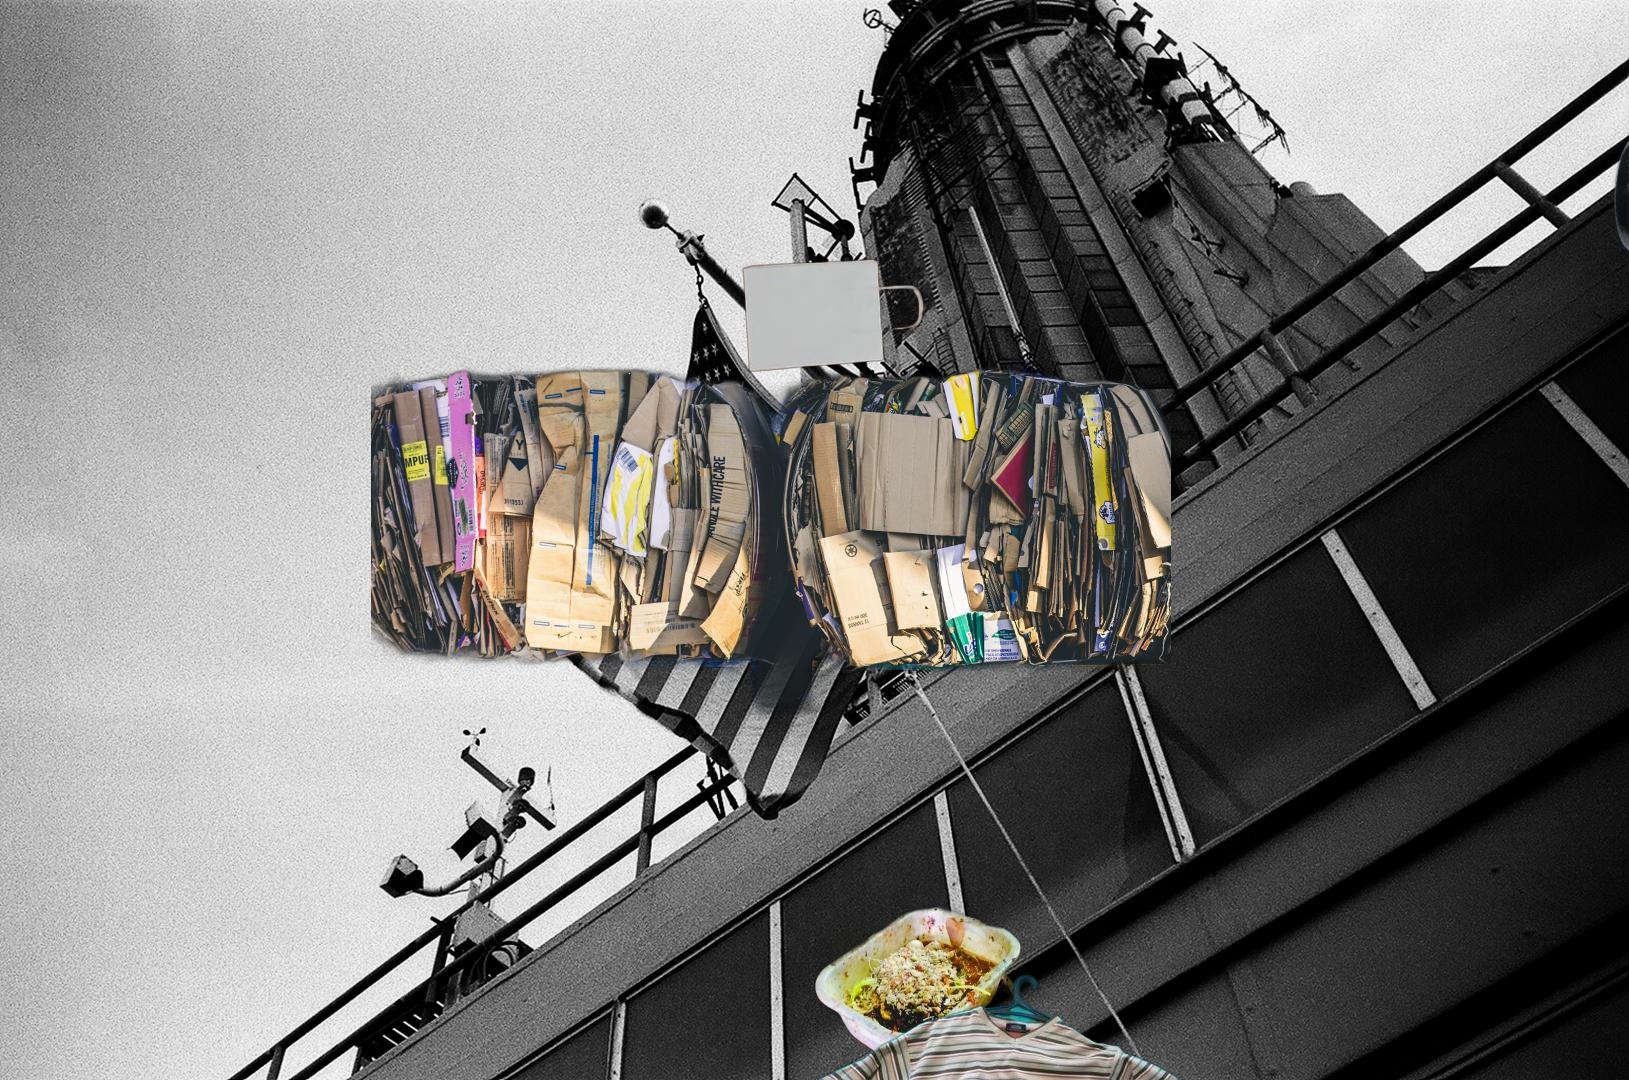biological: (757, 824, 1033, 1080)
clothes: (808, 972, 1208, 1080)
glass: (1609, 129, 1629, 284)
paper-bag: (740, 237, 927, 375)
trashbox-cardboard: (371, 351, 1171, 1006)
